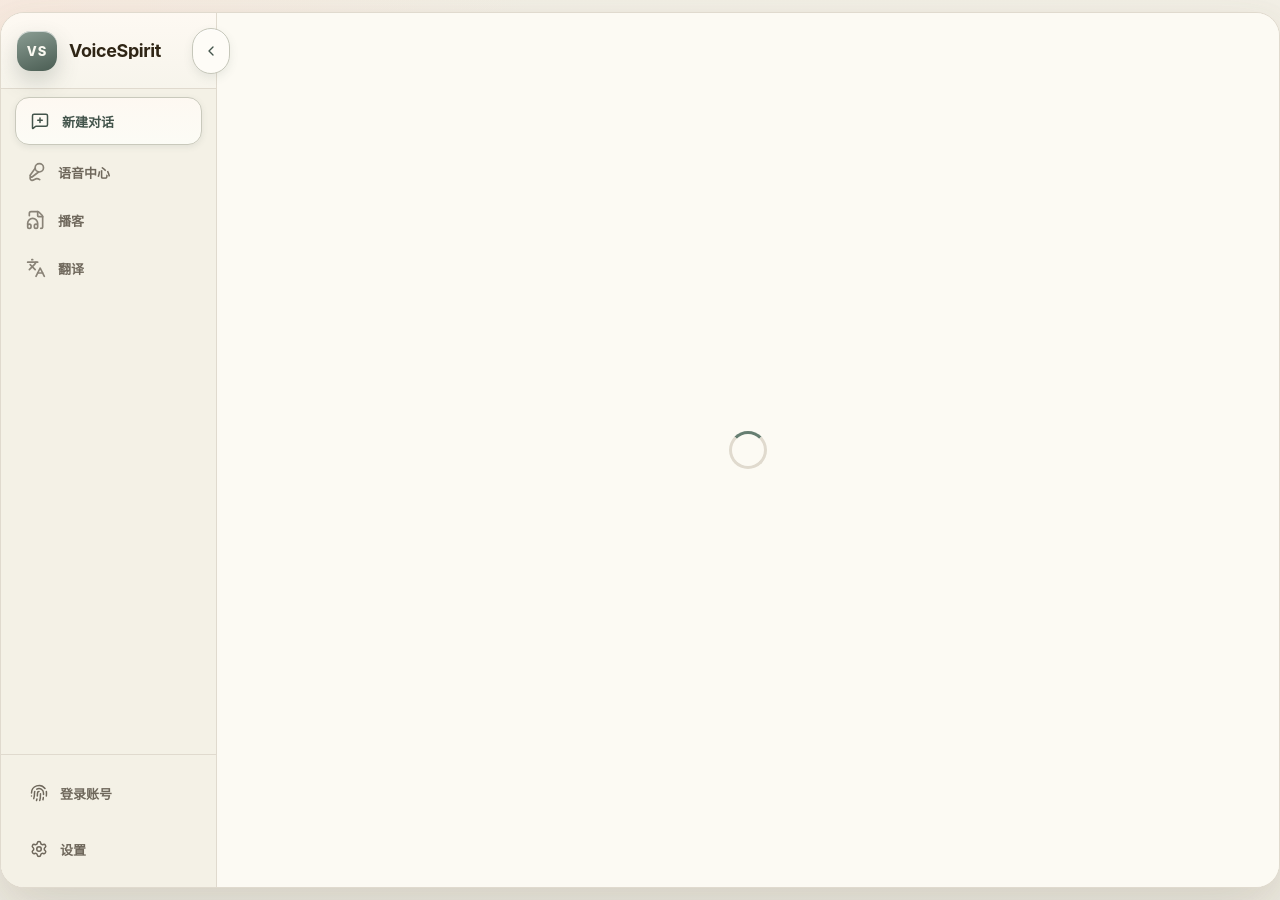
Test: App interactions › submits translation with the edited target language
Click the button with test id "nav-translate". click: (108, 268)
box: [11,247,206,289]
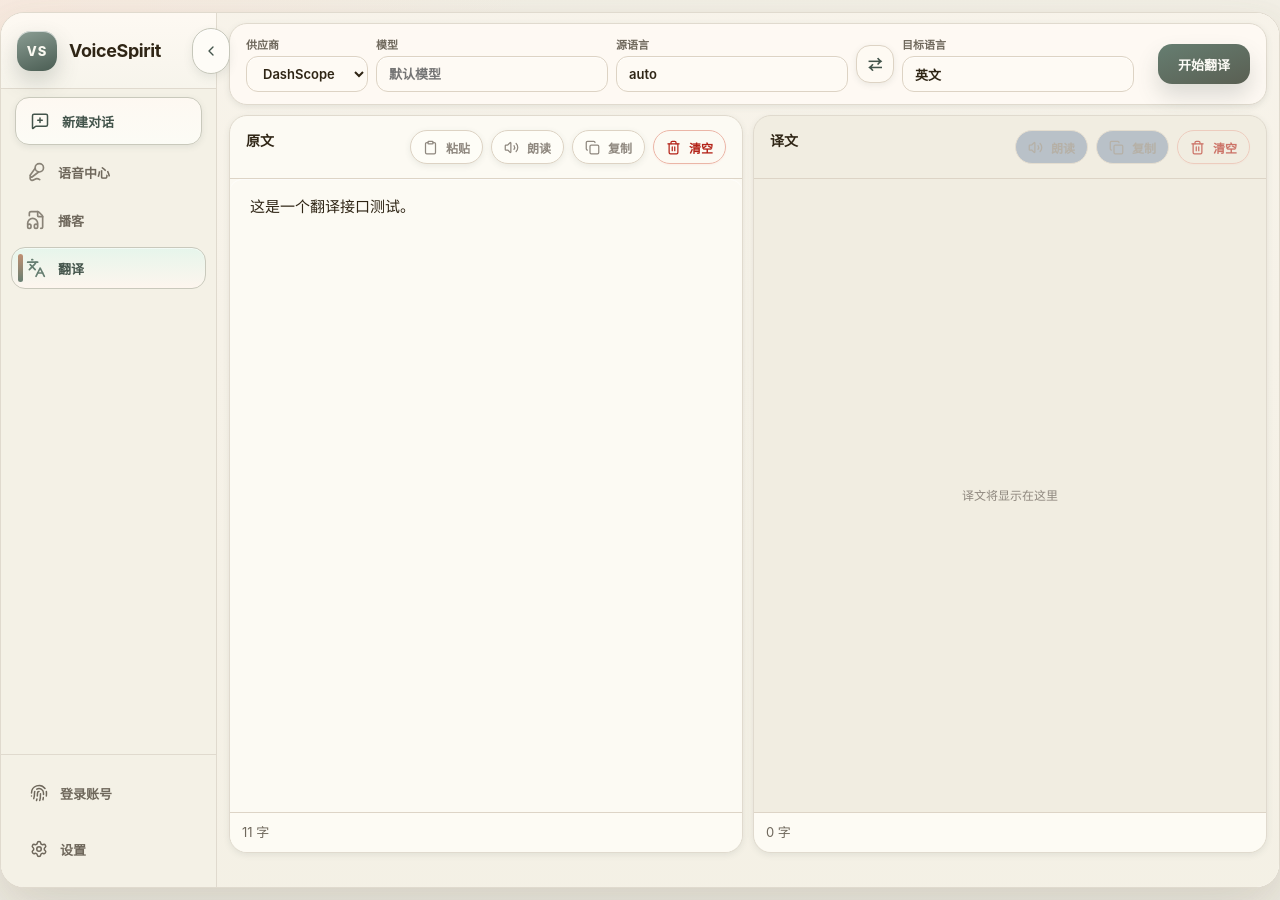
Replace the text in the field labelled "目标语言" with "日本語". click: (1018, 74)
box: [902,56,1134,92]
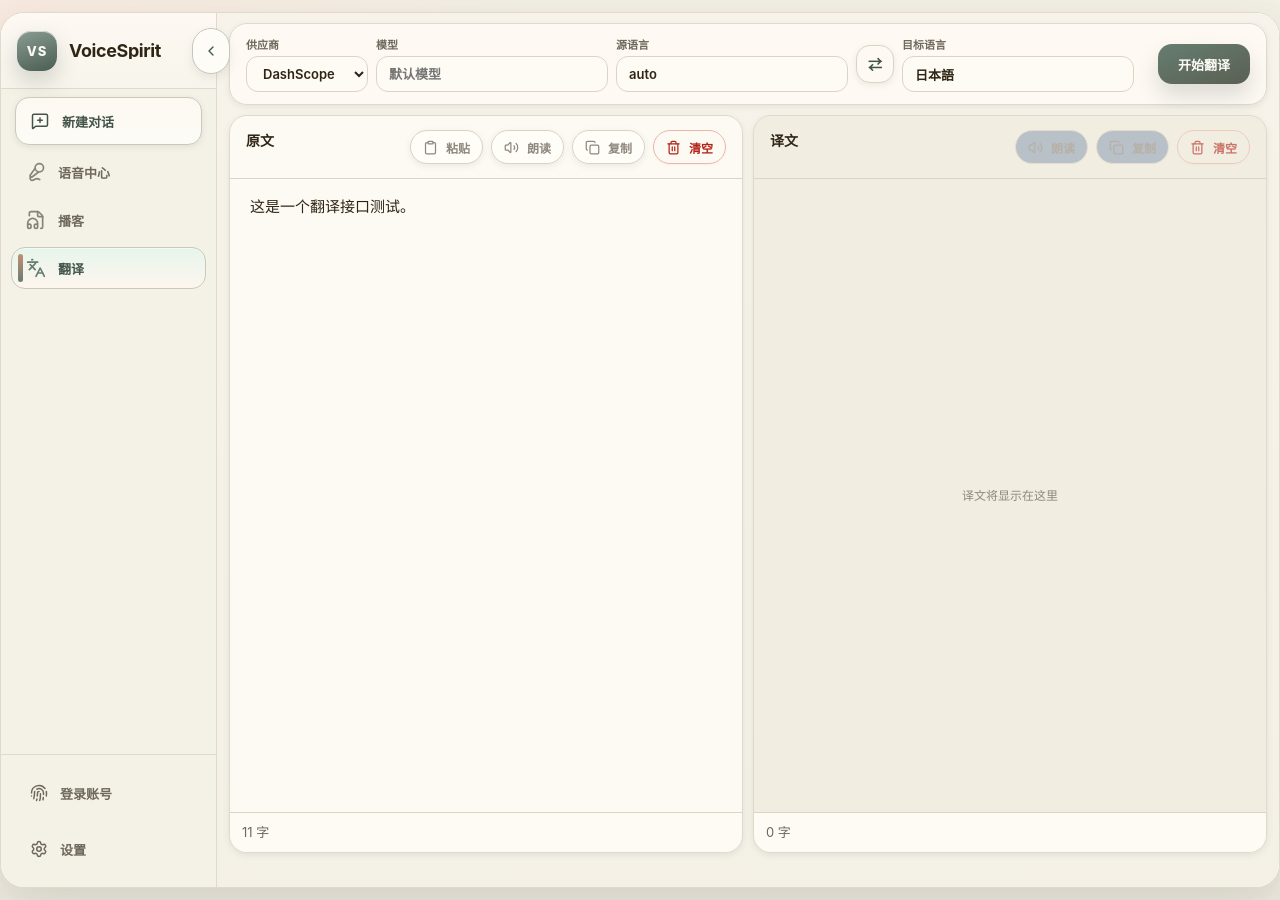
Click the button "开始翻译". click: (1204, 64)
box: [1158,44,1250,84]
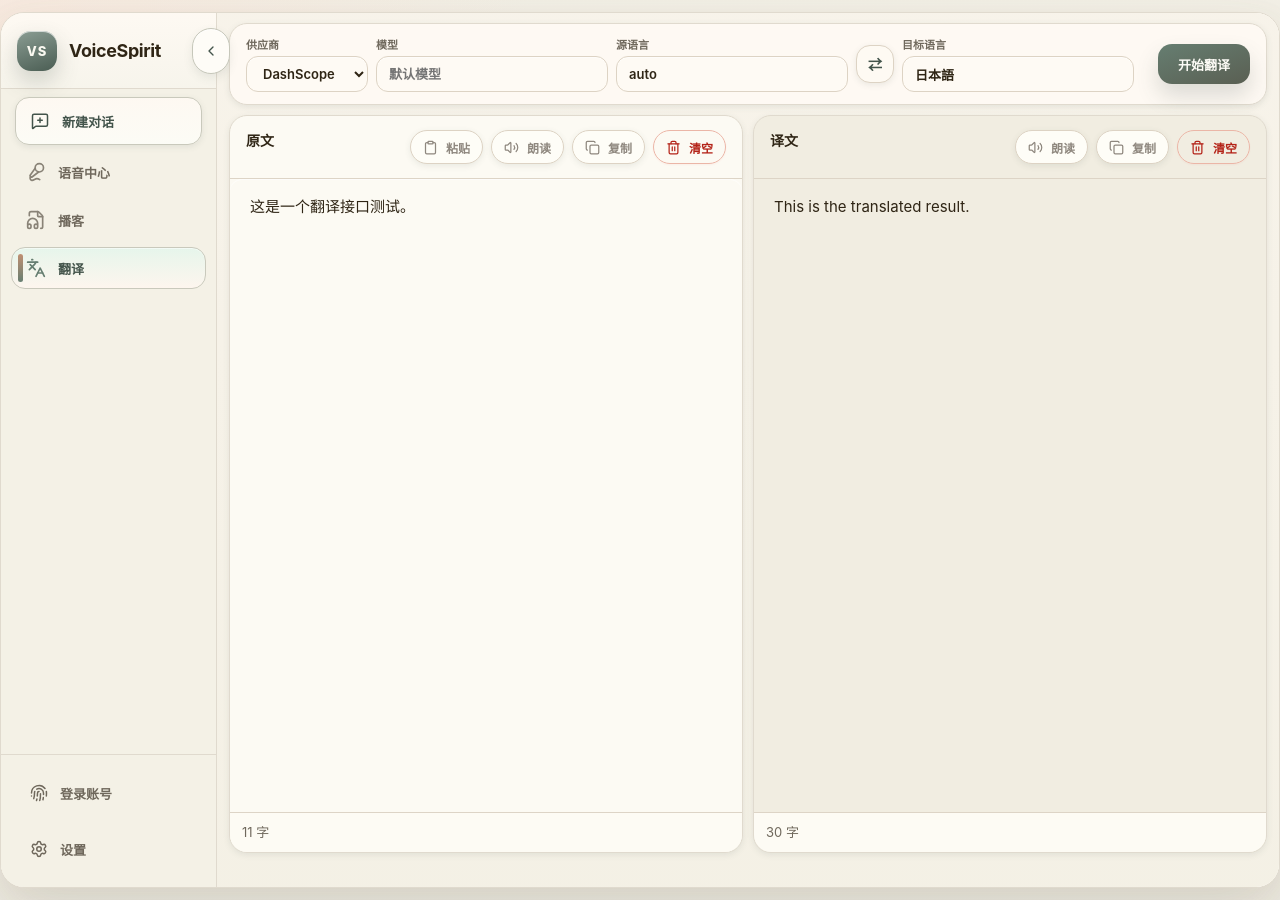
Check: the text "This is the translated result." is shown, box [774,197,970,216]
